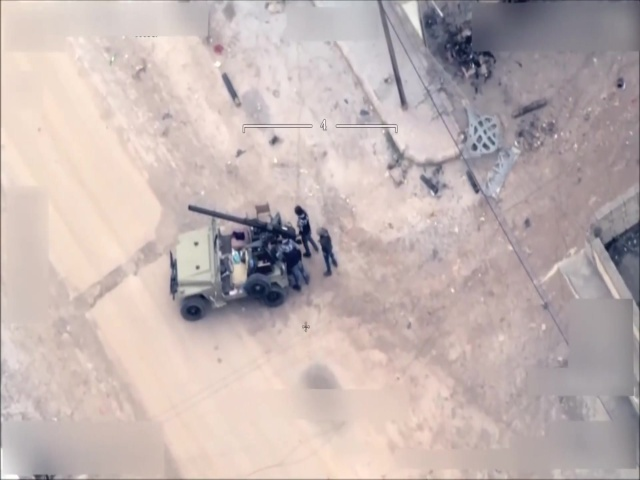person: (278, 229, 309, 296), (293, 201, 318, 260), (314, 224, 338, 280)
vehicle: (170, 215, 294, 318)
